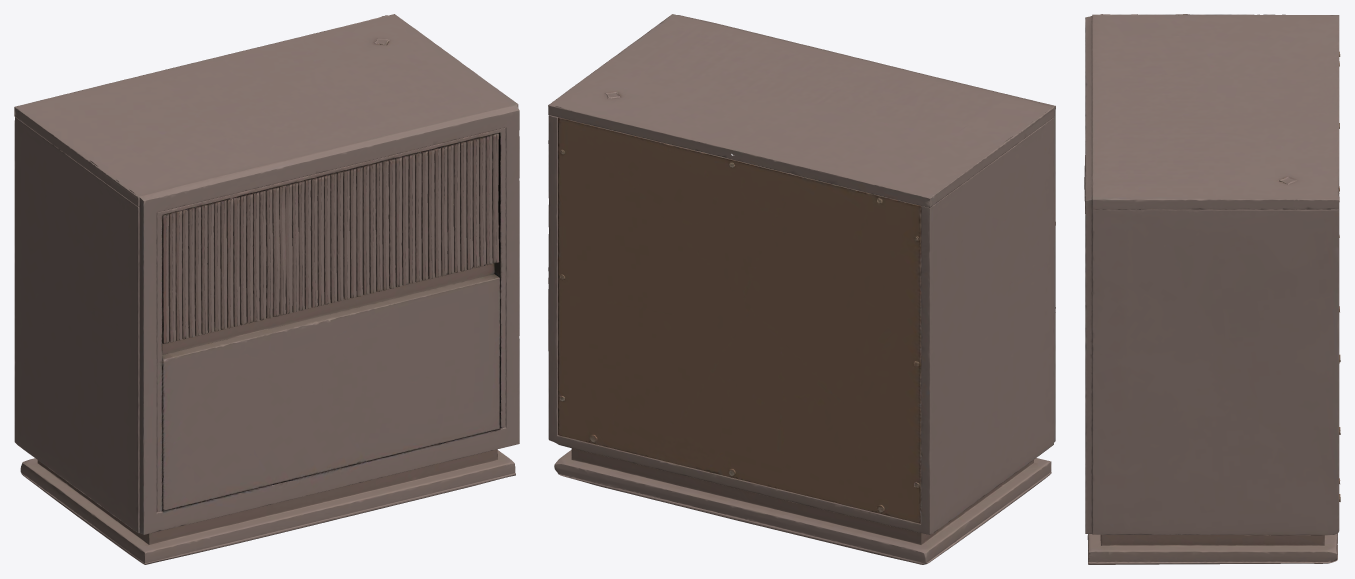
File: No Name-03.glb
3 views of the same model, side by side, from view 1: azimuth 30°, elevation 25°; view 2: azimuth 150°, elevation 25°; view 3: azimuth 270°, elevation 25° (orthographic).
Visible parts, largest first — view 1: tripo_node_9d26bee4-c5fc-47b1-a06f-f1b685faf478; view 2: tripo_node_9d26bee4-c5fc-47b1-a06f-f1b685faf478; view 3: tripo_node_9d26bee4-c5fc-47b1-a06f-f1b685faf478.
Boxes of the visible parts, x1=… form: tripo_node_9d26bee4-c5fc-47b1-a06f-f1b685faf478: x1=14, y1=14, x2=519, y2=564; tripo_node_9d26bee4-c5fc-47b1-a06f-f1b685faf478: x1=548, y1=14, x2=1055, y2=564; tripo_node_9d26bee4-c5fc-47b1-a06f-f1b685faf478: x1=1084, y1=14, x2=1340, y2=564.
Size of the model in its own units: 0.9789 by 0.9179 by 0.572.
1 material, 1 textured.
